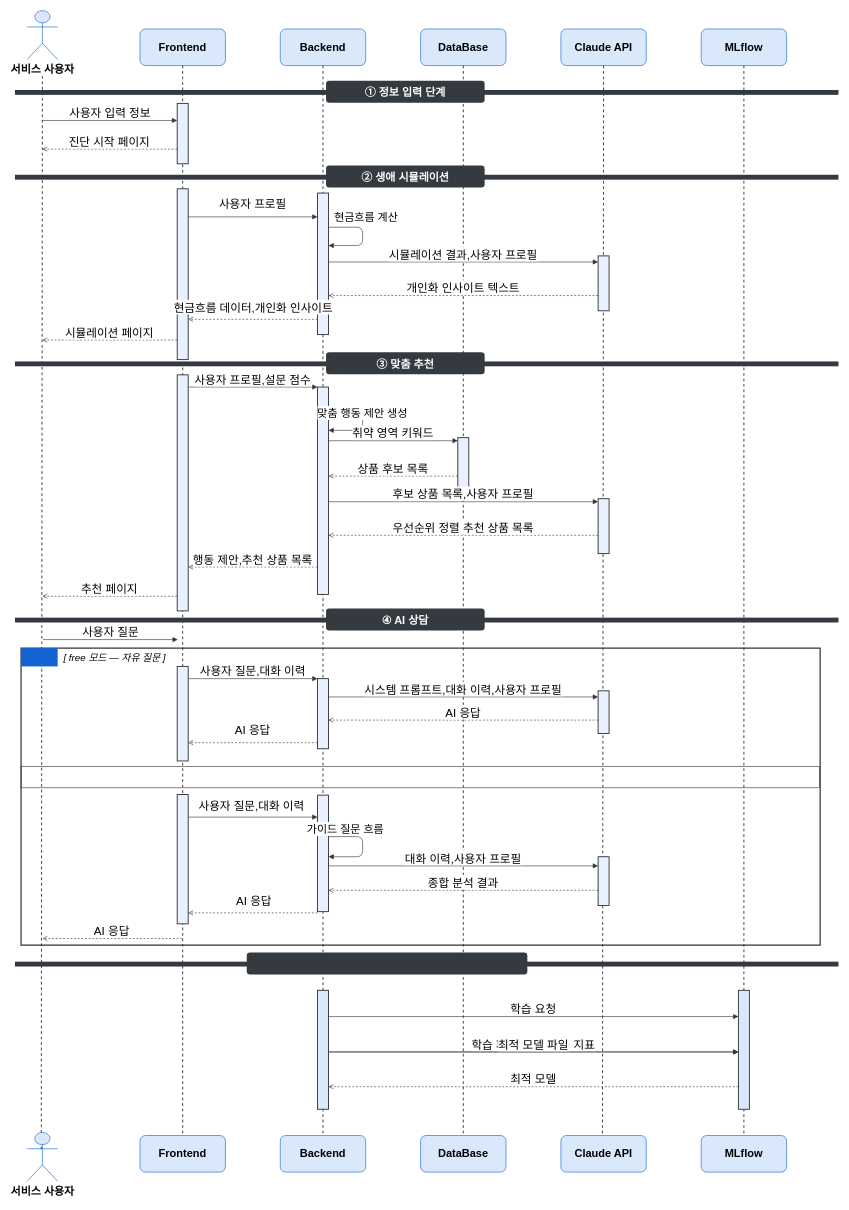
The diagram is 849 pixels wide and 1210 high, and some of its shapes have lost their labels. The shapes that lost their labels are listed below. From the top down, each one's centre as x and y in pixels, then its label:
At pixel 39 657: "alt".
At pixel 420 777: "[ proactive 모드 — 5단계 가이드 ]".
At pixel 386 963: "⑤ MLOps 파이프라인 (오프라인)".
